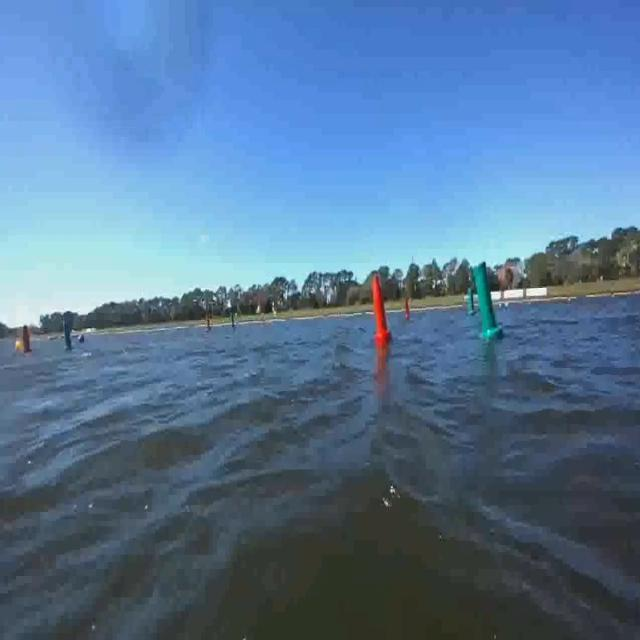green-column-buoy: (477, 264, 505, 341), (469, 287, 479, 315), (229, 308, 236, 328)
red-column-buoy: (371, 275, 391, 343), (22, 323, 35, 354), (405, 296, 413, 318), (205, 312, 213, 334)
yellow-buoy: (15, 339, 22, 352)
